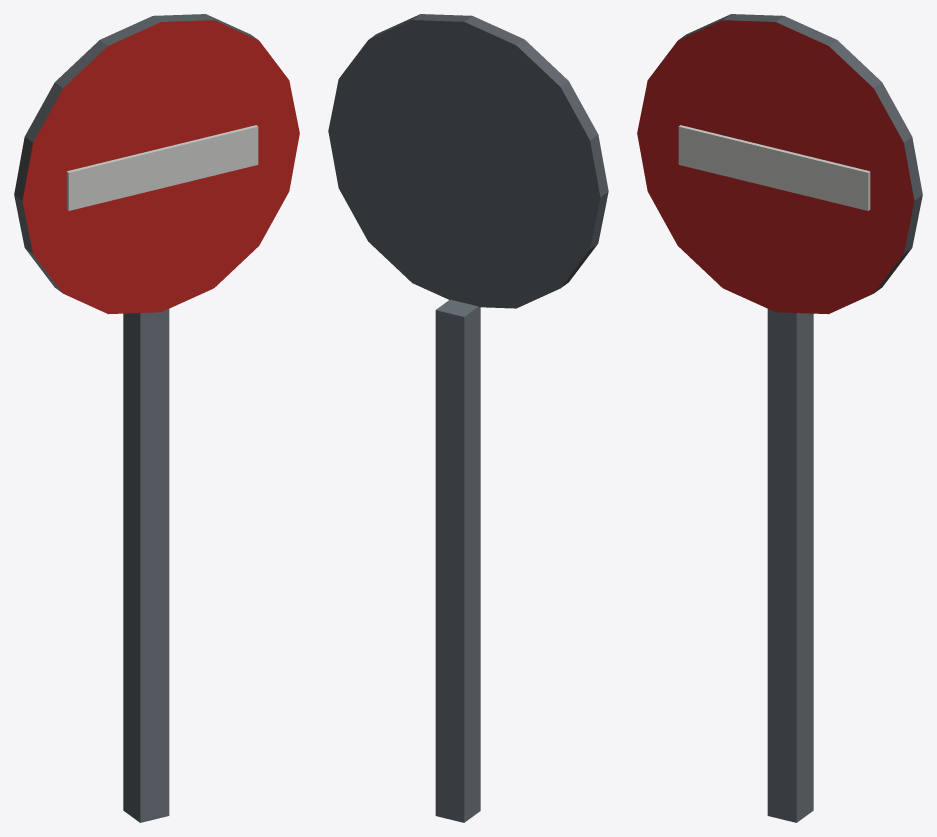
The model's file is ct_trk_sign_noentry.glb.
The picture shows the model from 3 angles, left to right: view 1: azimuth 30°, elevation 25°; view 2: azimuth 150°, elevation 25°; view 3: azimuth 330°, elevation 25°; orthographic projection.
Visible parts, largest first — view 1: ct_trk_sign_noentry; view 2: ct_trk_sign_noentry; view 3: ct_trk_sign_noentry.
Boxes of the visible parts, box(x1,y1,x2,y2) form: ct_trk_sign_noentry: box(14, 14, 299, 822); ct_trk_sign_noentry: box(328, 14, 608, 822); ct_trk_sign_noentry: box(637, 14, 922, 822).
Bounding box in the file's own units: 0.7599 × 2.1 × 0.121.
